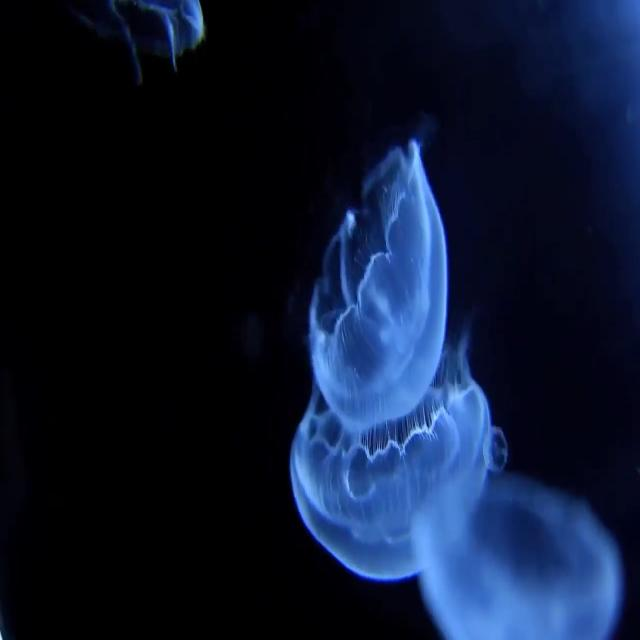Moon-jellyfish: (288, 383, 510, 580), (312, 143, 448, 423), (420, 471, 619, 639)
